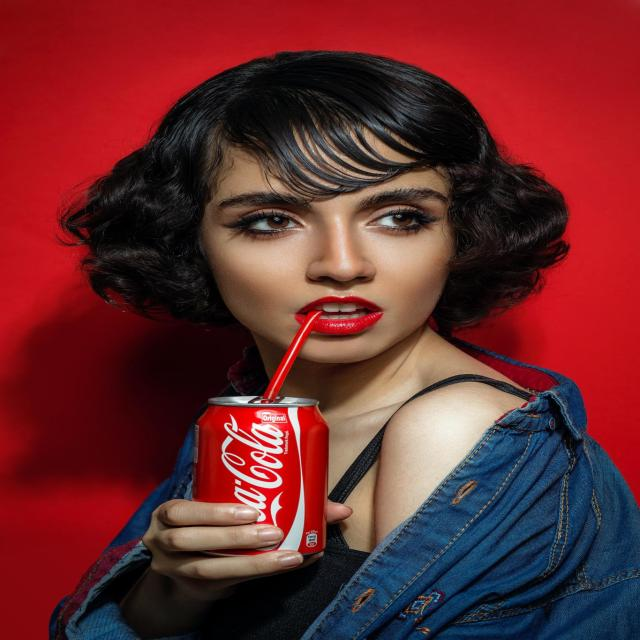coca-cola: (219, 408, 293, 555)
